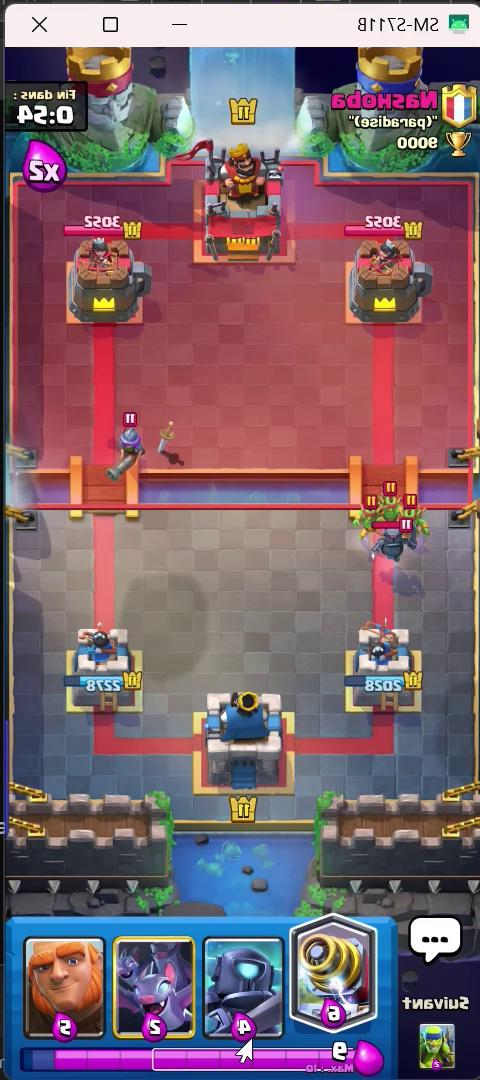gobelin_lances: (402, 497, 439, 534), (379, 482, 409, 524), (352, 505, 382, 533)
mini_PEKKA: (368, 521, 416, 558)
mousquetaire: (107, 416, 158, 487)
